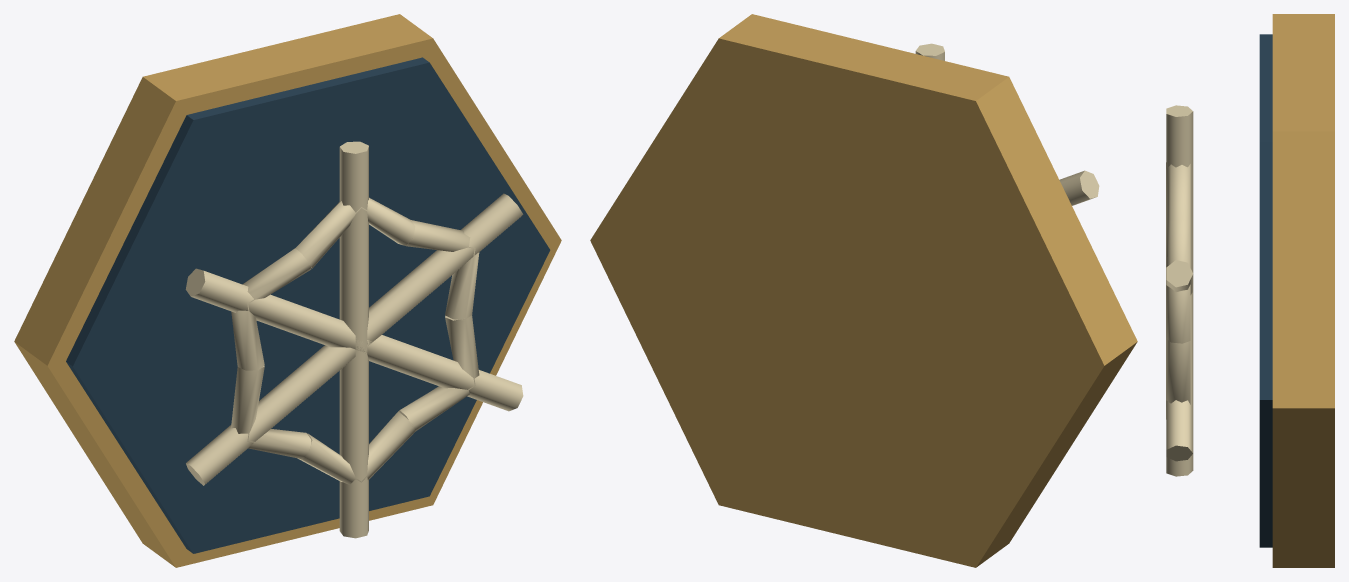
The model's file is ice.fbx.
The picture shows the model from 3 angles, left to right: view 1: azimuth 30°, elevation 25°; view 2: azimuth 150°, elevation 25°; view 3: azimuth 270°, elevation 25°; orthographic projection. The views are drawn at different scales.
Visible parts, largest first — view 1: ice; view 2: ice; view 3: ice.
Boxes of the visible parts, left/top/right/bottom form: ice: left=14, top=14, right=561, bottom=567; ice: left=590, top=14, right=1137, bottom=567; ice: left=1166, top=14, right=1334, bottom=567.
Size of the model in its own units: 0.98 by 0.85 by 0.298.
